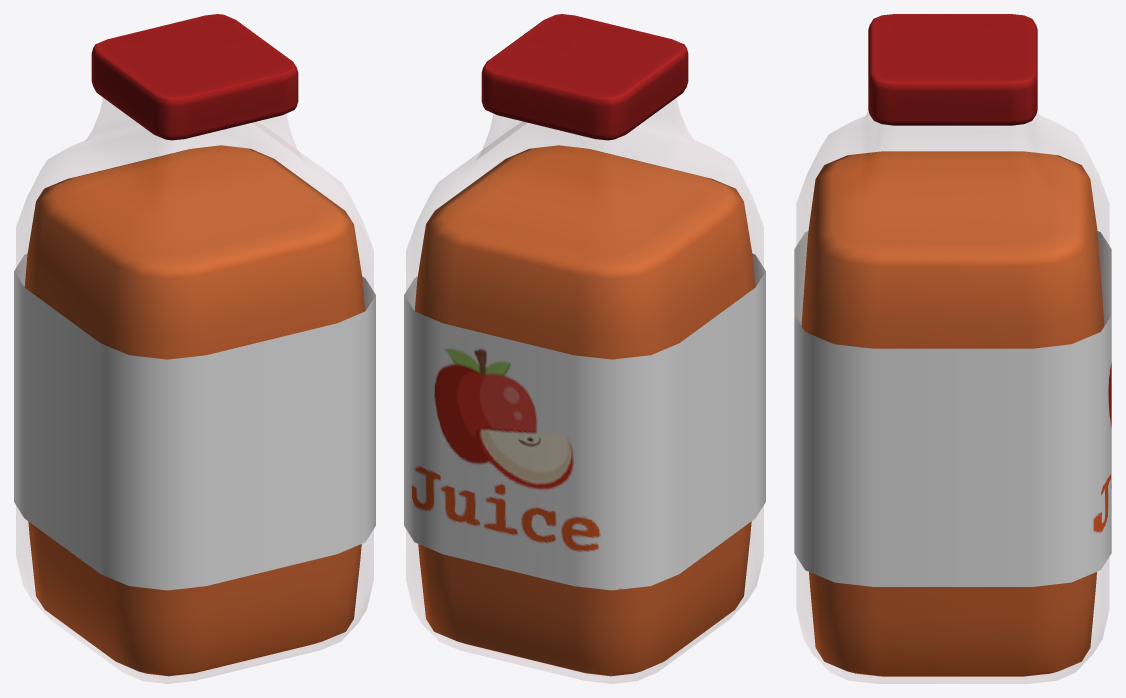
Rendered from nuoc ep-001.fbx.
The picture shows the model from 3 angles, left to right: view 1: azimuth 30°, elevation 25°; view 2: azimuth 150°, elevation 25°; view 3: azimuth 270°, elevation 25°; orthographic projection. The views are drawn at different scales.
Parts seen in each view (by area): view 1: polySurface3, polySurface7; view 2: polySurface3, polySurface7; view 3: polySurface3, polySurface7.
Boxes of the visible parts, <box> form: polySurface3: <box>14,14,375,676</box>; polySurface7: <box>16,98,373,683</box>; polySurface3: <box>404,14,765,676</box>; polySurface7: <box>406,98,763,683</box>; polySurface3: <box>794,14,1111,676</box>; polySurface7: <box>796,111,1109,683</box>.
Bounding box in the file's own units: 67.8 × 140 × 68.1.
2 materials, 2 textured.
